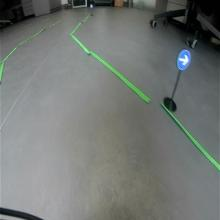right: (176, 48, 191, 71)
